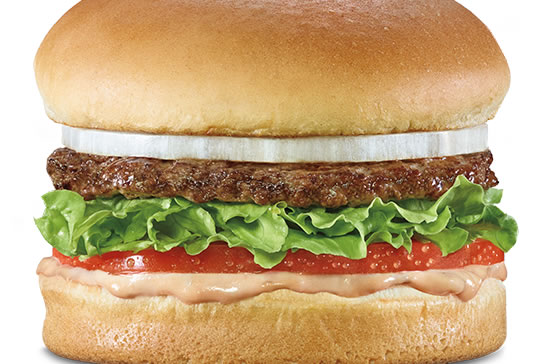hamburger: (28, 1, 519, 364)
